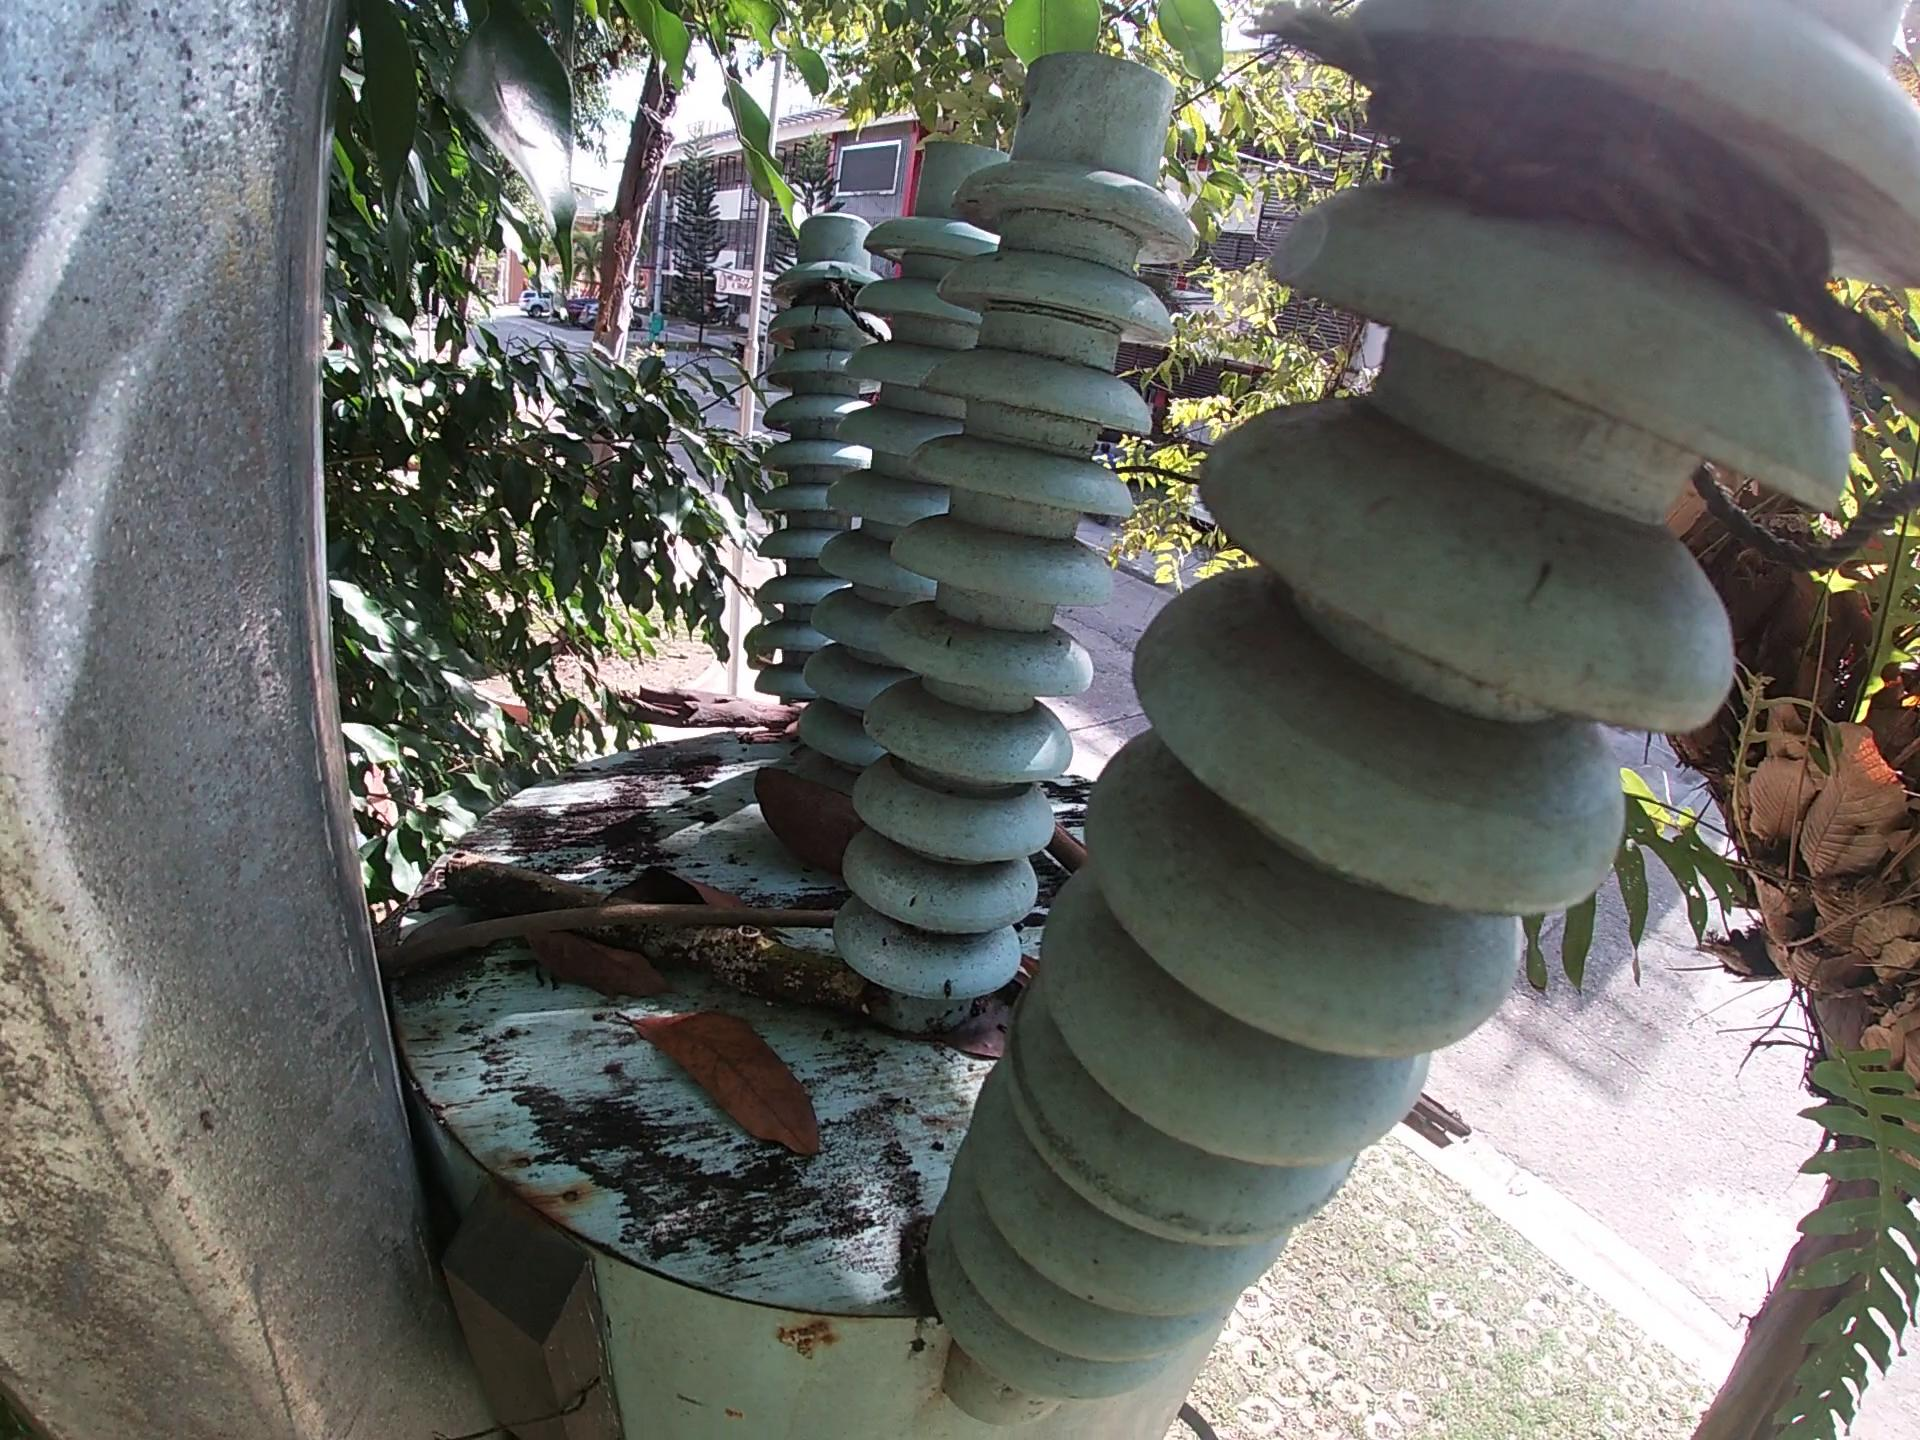leaf: (609, 1001, 838, 1168), (519, 929, 671, 1004), (906, 1004, 1027, 1060), (599, 867, 762, 908)
mahogany fruit: (754, 765, 860, 879)
tree branch: (438, 859, 871, 1013), (373, 908, 851, 986), (608, 681, 804, 752)
